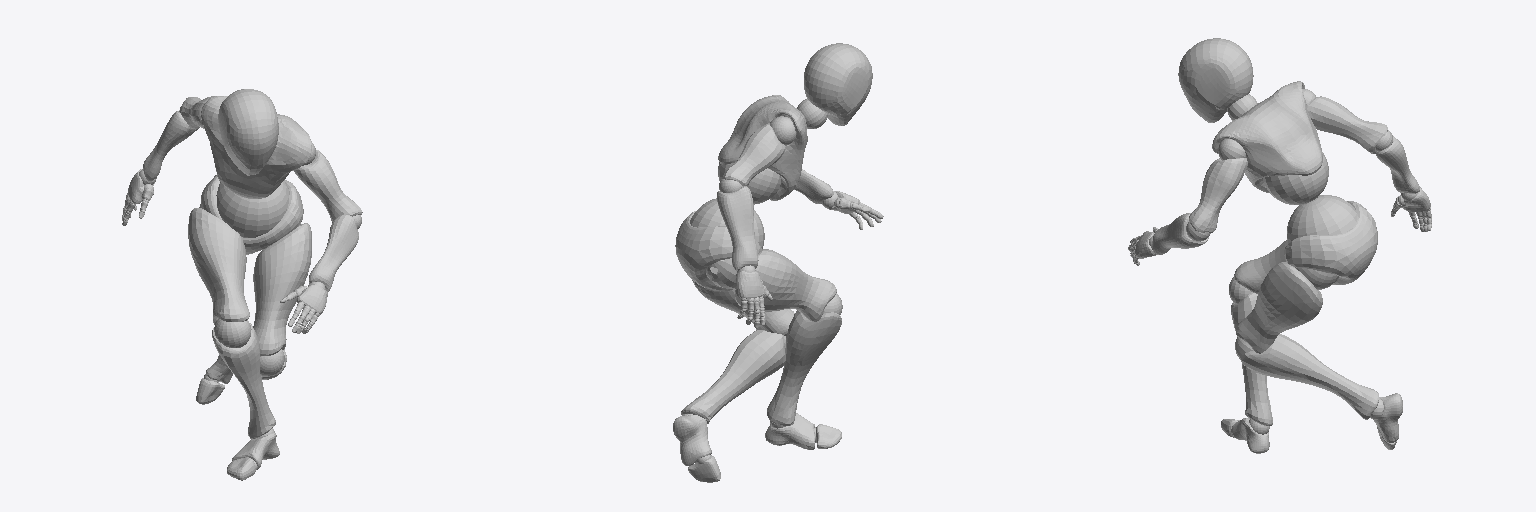
3 renders of one model, left to right at view 1: azimuth 30°, elevation 25°; view 2: azimuth 150°, elevation 25°; view 3: azimuth 270°, elevation 25°, orthographic.
Parts seen in each view (by area): view 1: Beta_Surface, Beta_Joints; view 2: Beta_Surface, Beta_Joints; view 3: Beta_Surface, Beta_Joints.
Boxes of the visible parts, x1=… form: Beta_Surface: x1=122, y1=89, x2=362, y2=480; Beta_Joints: x1=122, y1=107, x2=361, y2=469; Beta_Surface: x1=673, y1=43, x2=883, y2=482; Beta_Joints: x1=682, y1=99, x2=878, y2=463; Beta_Surface: x1=1128, y1=38, x2=1431, y2=453; Beta_Joints: x1=1129, y1=89, x2=1431, y2=436.
Size of the model in its own units: 0.4873 by 1.4 by 0.9854.